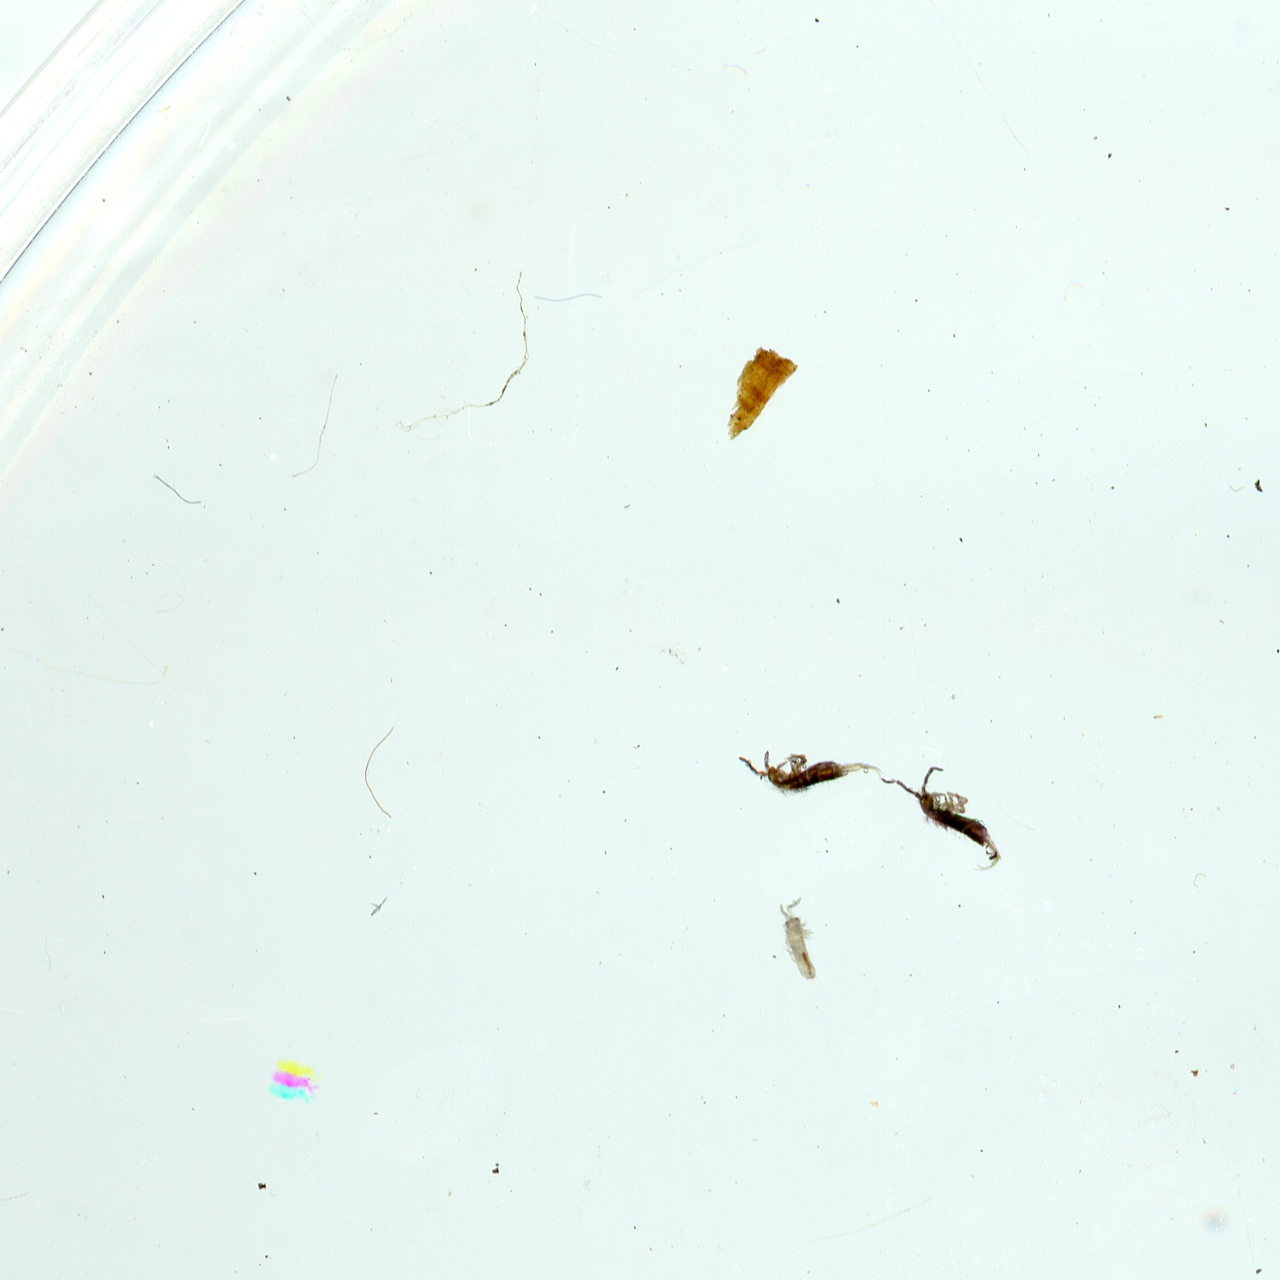arthropod: (876, 764, 1005, 878), (731, 747, 886, 801), (775, 894, 824, 992), (263, 1056, 328, 1109)
